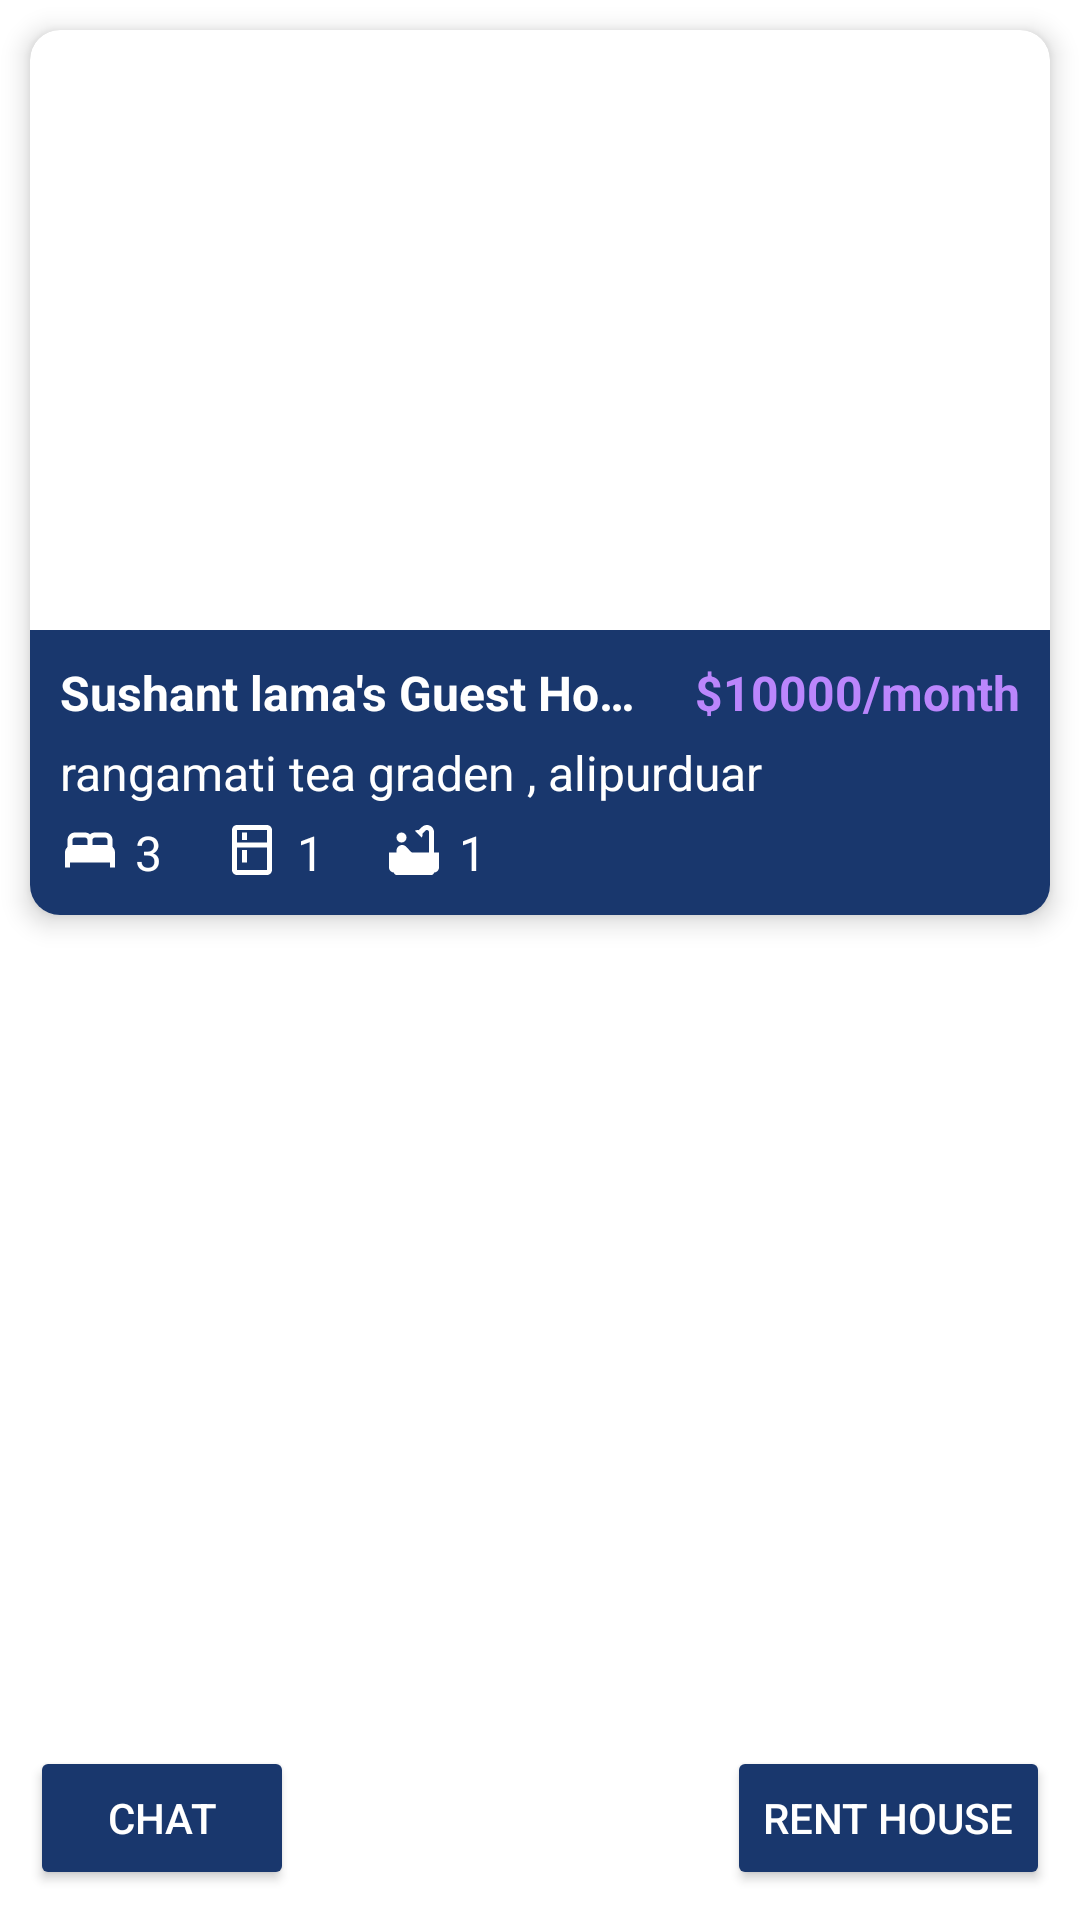

Named icons in this screenshot (1080 x 1920) and their bounding boxes, BBox(x1, y1, x2, y2):
bathtub: BBox(389, 825, 439, 875)
bed: BBox(65, 832, 115, 868)
kitchen: BBox(232, 825, 272, 875)
